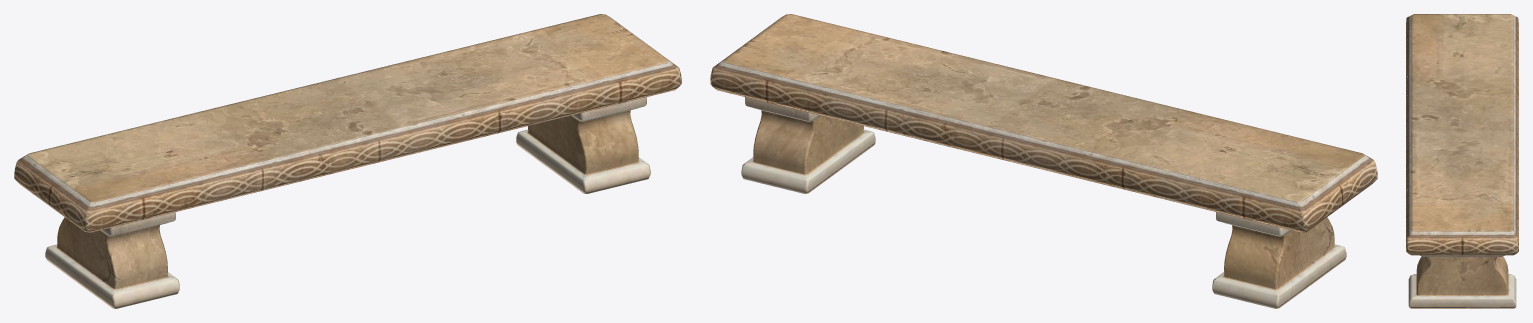
3 views of the same model, side by side, from view 1: azimuth 30°, elevation 25°; view 2: azimuth 150°, elevation 25°; view 3: azimuth 270°, elevation 25° (orthographic). The views are drawn at different scales.
Parts seen in each view (by area): view 1: SM_Bench_01_LOD0; view 2: SM_Bench_01_LOD0; view 3: SM_Bench_01_LOD0.
Boxes of the visible parts, x1,y1,x2,y2 form: SM_Bench_01_LOD0: (14,14,681,308); SM_Bench_01_LOD0: (710,14,1377,308); SM_Bench_01_LOD0: (1406,14,1518,308).
Bounding box in the file's own units: 2.86 × 0.5067 × 0.6069.
Materials: 2 (2 with a texture image).
